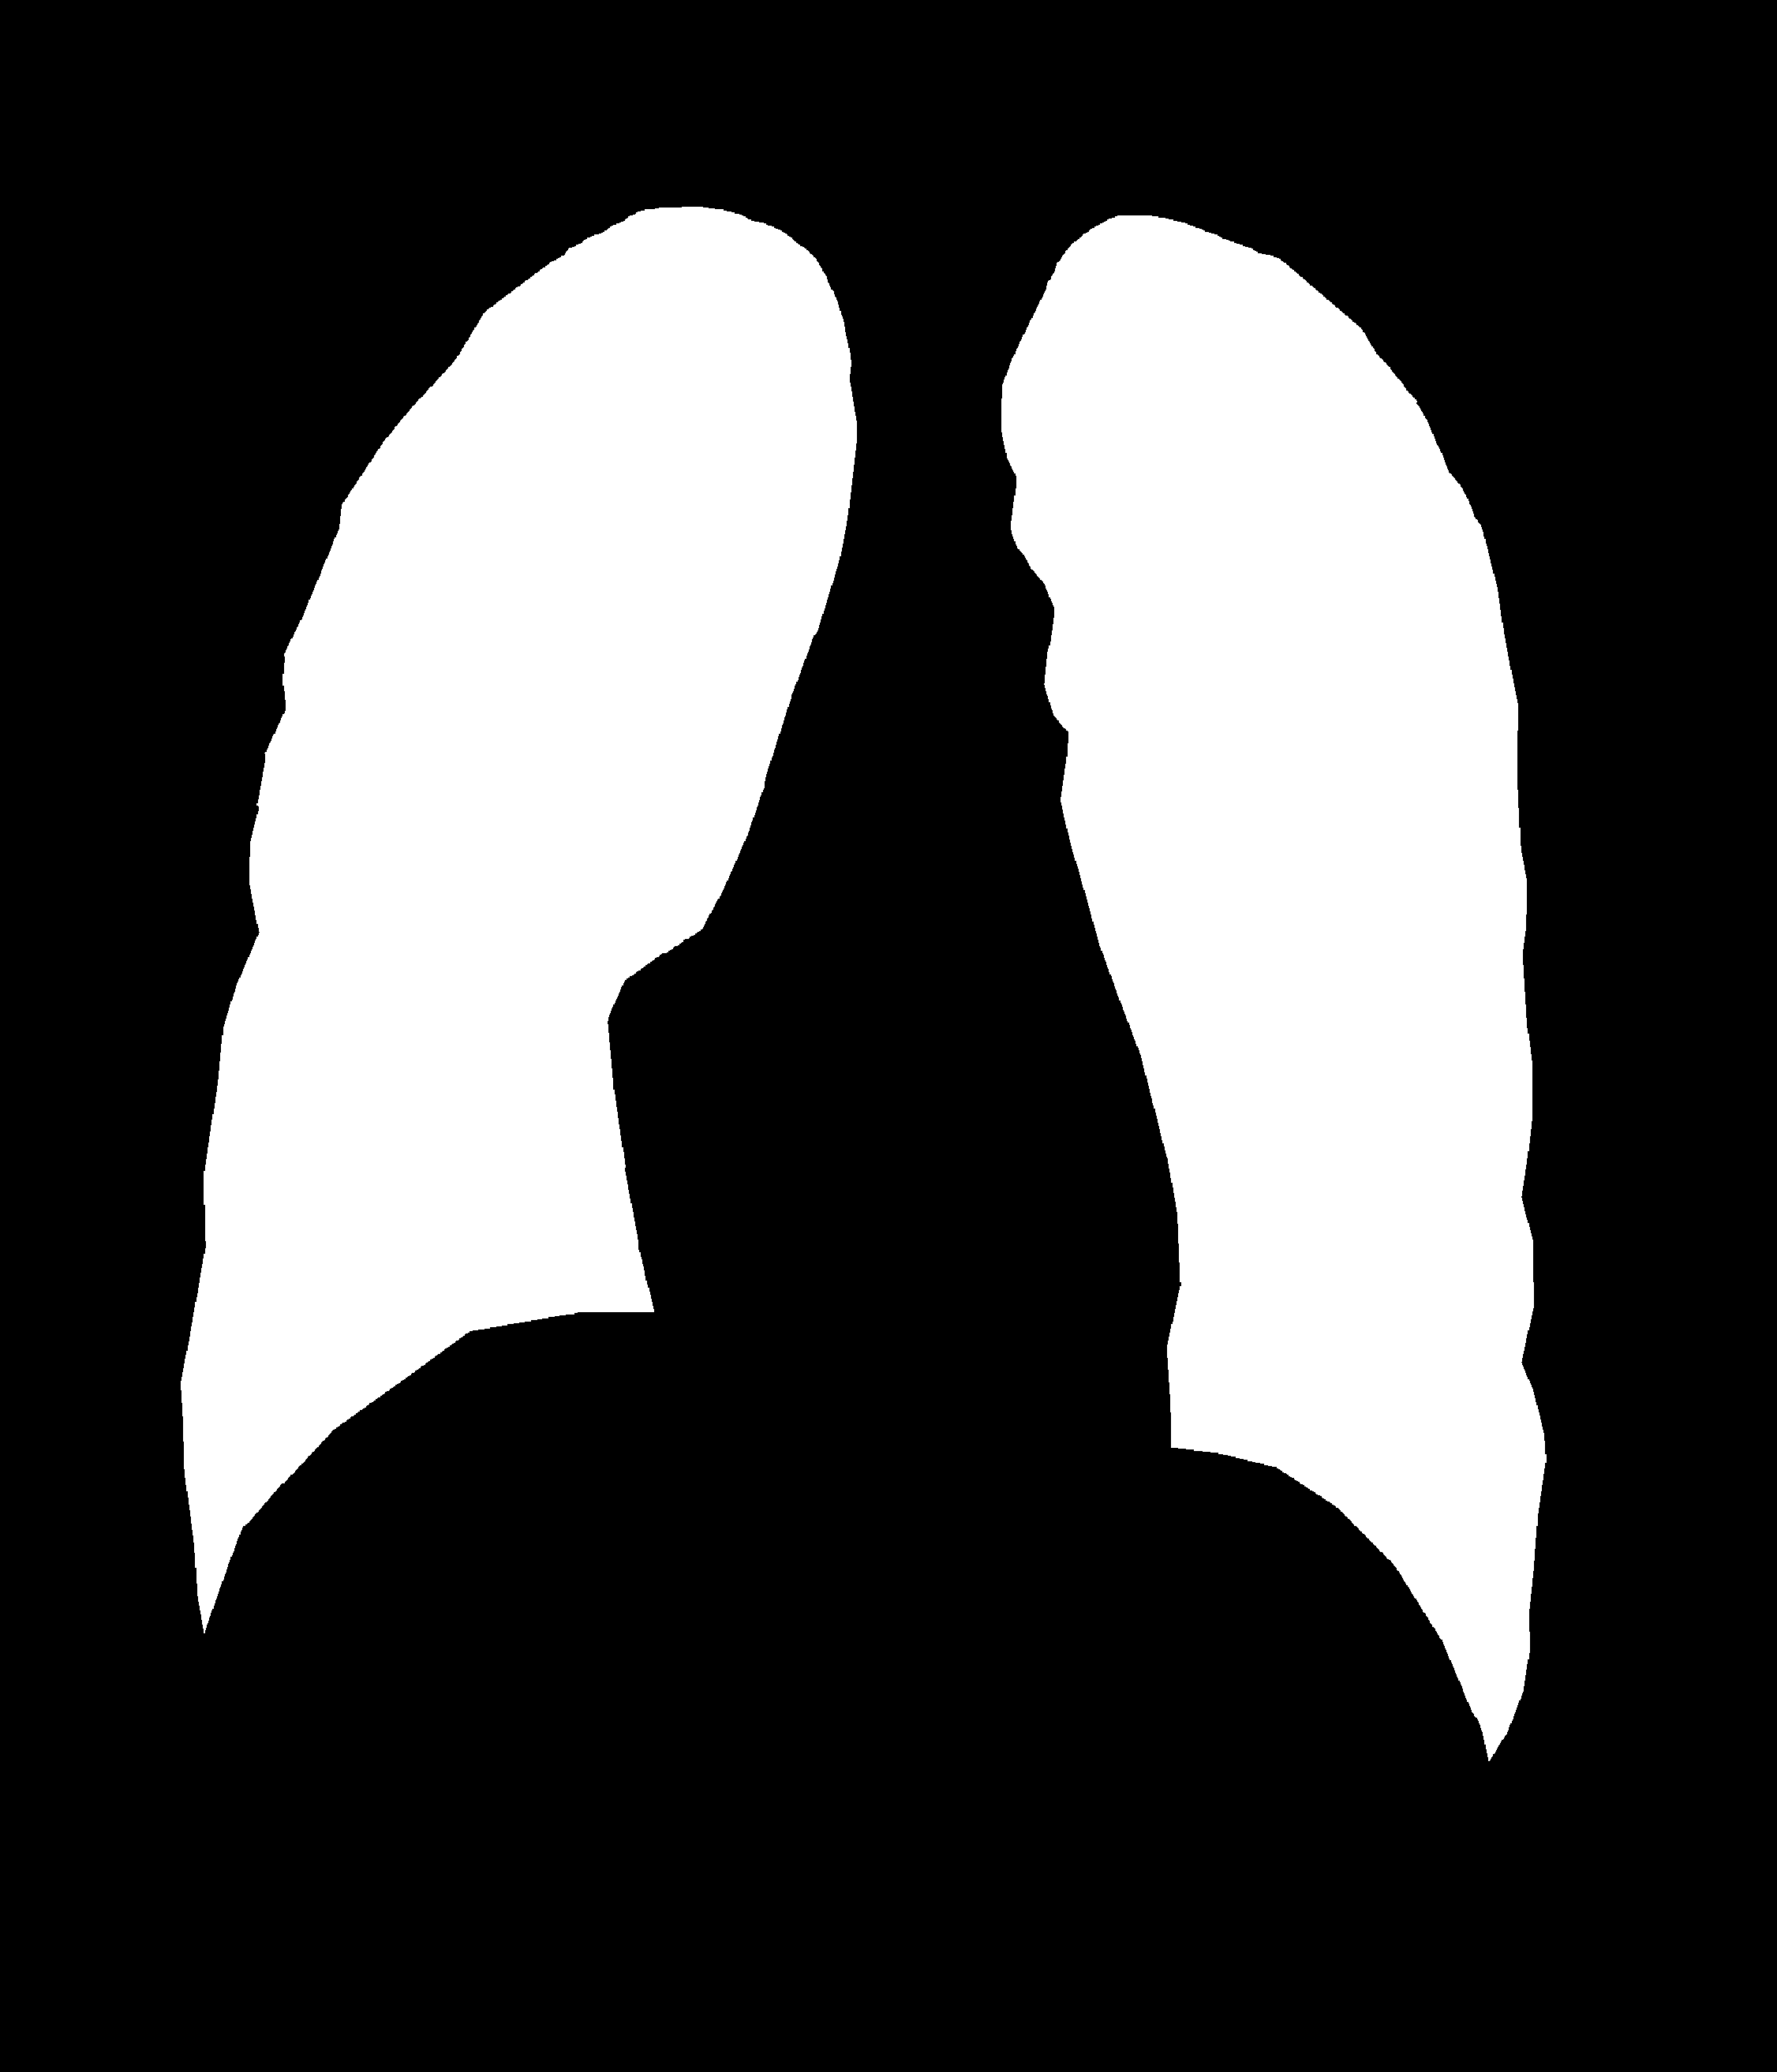heart: (611, 914, 1182, 1459)
left_lung: (181, 206, 856, 1633)
right_lung: (1002, 215, 1546, 1760)
